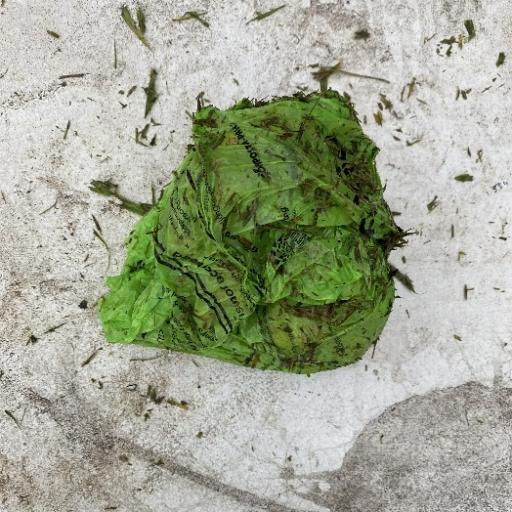Waste: (91, 86, 413, 376)
